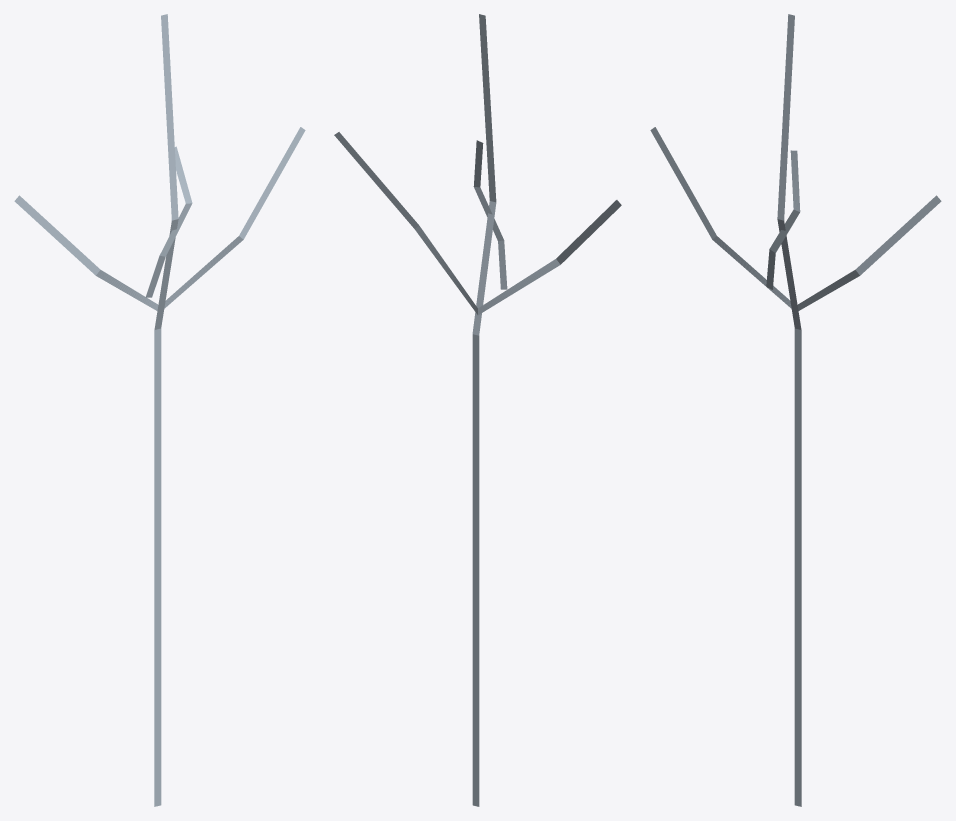
Rendered from Rosaria_RitesOfTerminationState_State_LanceColdEdges.fbx.
3 renders of one model, left to right at view 1: azimuth 30°, elevation 25°; view 2: azimuth 150°, elevation 25°; view 3: azimuth 330°, elevation 25°, orthographic.
Visible parts, largest first — view 1: PART_LanceColdEdge_0, PART_LanceColdEdge_1, PART_LanceColdEdge_2; view 2: PART_LanceColdEdge_0, PART_LanceColdEdge_1, PART_LanceColdEdge_2; view 3: PART_LanceColdEdge_0, PART_LanceColdEdge_1, PART_LanceColdEdge_2.
Part boxes in pixels (box(x1,y1,x2,y2)): PART_LanceColdEdge_0: box(154, 14, 178, 806); PART_LanceColdEdge_1: box(14, 127, 305, 310); PART_LanceColdEdge_2: box(145, 146, 192, 297); PART_LanceColdEdge_0: box(472, 14, 496, 806); PART_LanceColdEdge_1: box(334, 132, 621, 315); PART_LanceColdEdge_2: box(473, 140, 507, 289); PART_LanceColdEdge_0: box(777, 14, 801, 806); PART_LanceColdEdge_1: box(650, 127, 941, 310); PART_LanceColdEdge_2: box(766, 150, 800, 289).
Size of the model in its own units: 155 by 404 by 16.
